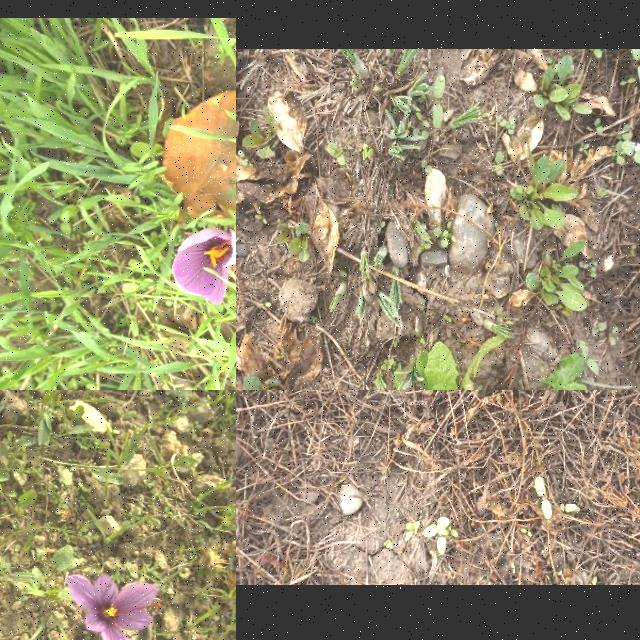flower: (67, 575, 161, 640), (172, 228, 236, 305)
